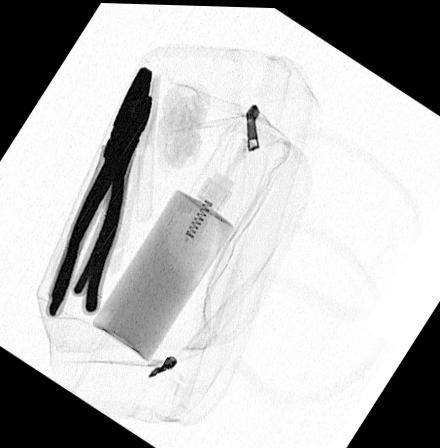Pliers: (49, 63, 155, 318), (47, 86, 155, 299)
